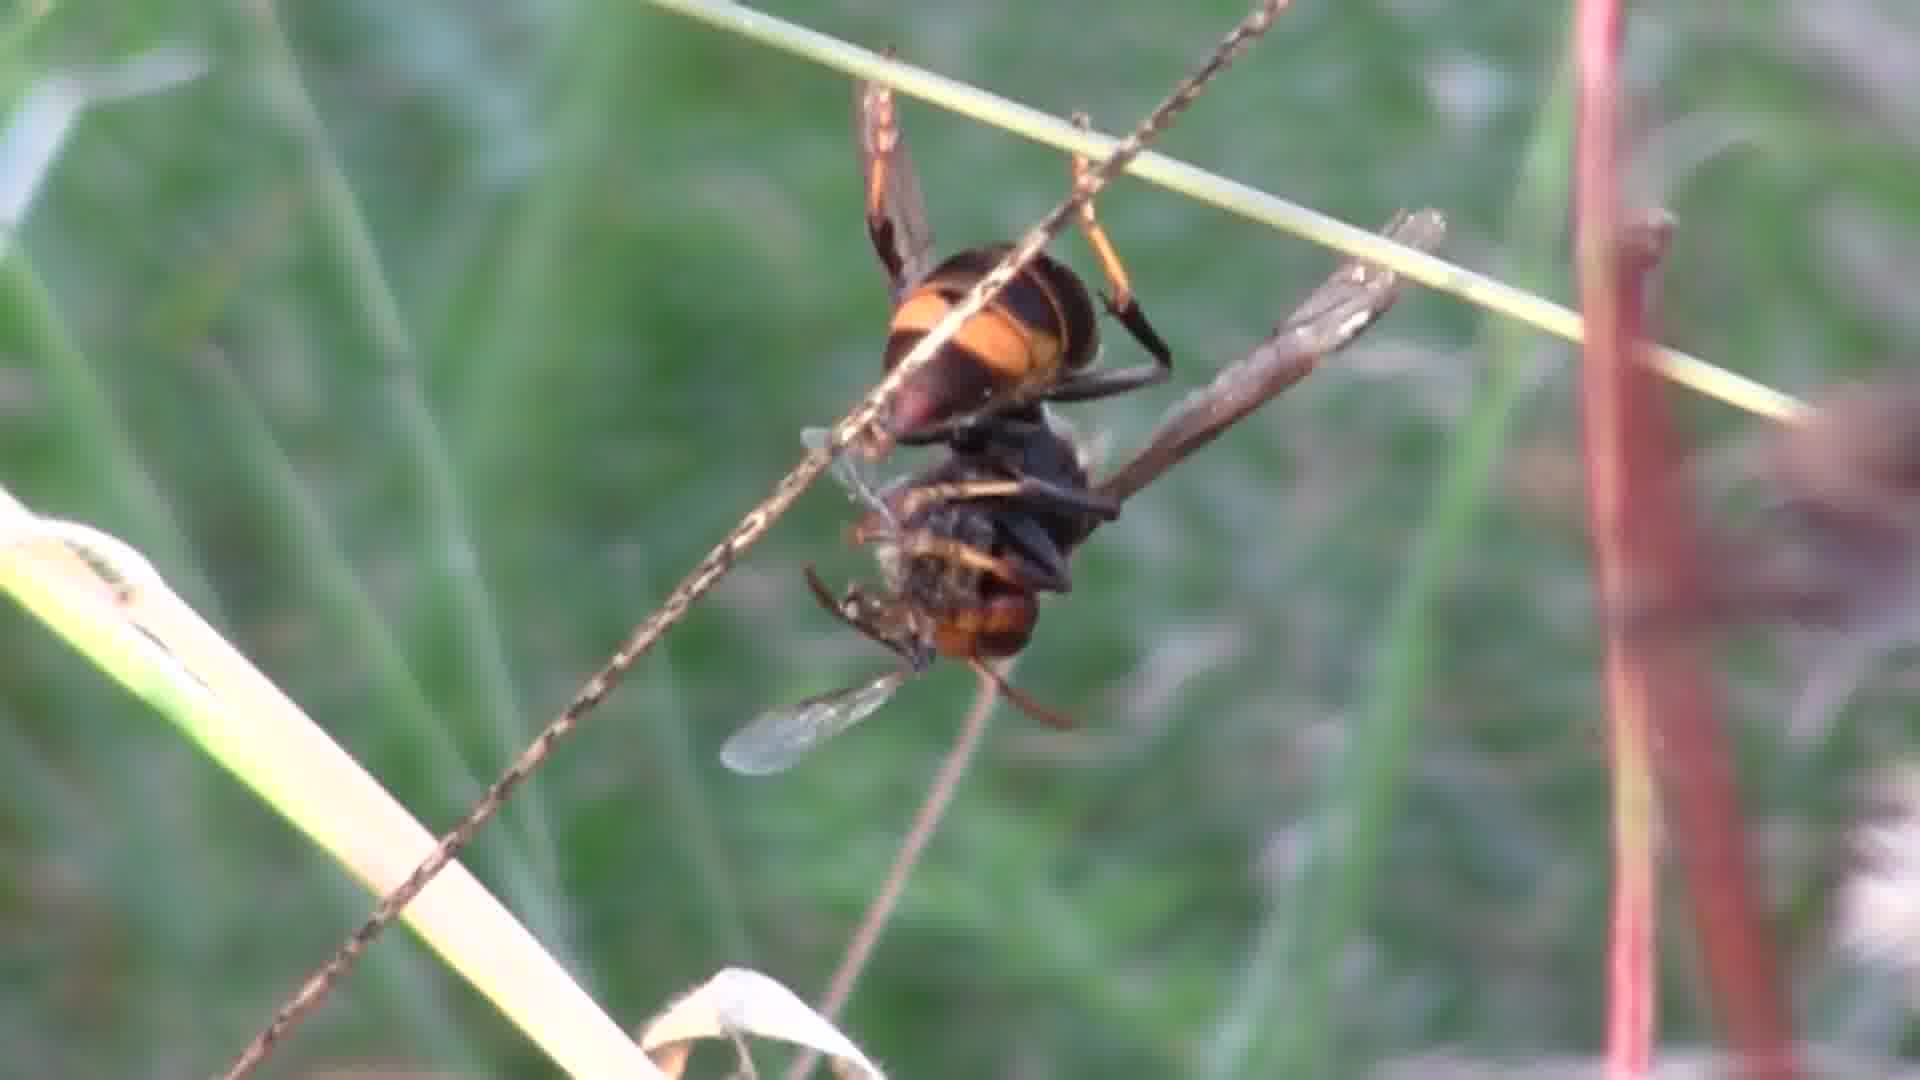hornet: (767, 102, 1222, 764)
